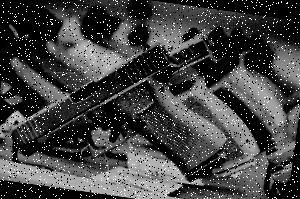handgun: (8, 34, 235, 182), (163, 28, 243, 158), (204, 27, 280, 144), (230, 29, 284, 122)
